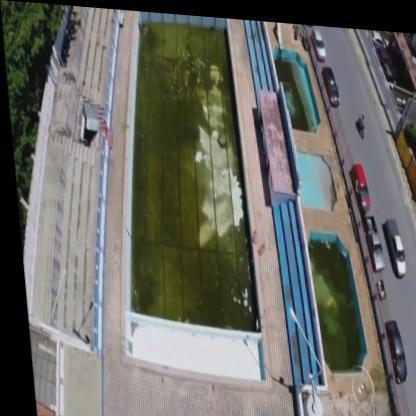agua: (135, 11, 247, 319), (304, 240, 358, 358), (276, 47, 311, 125)
